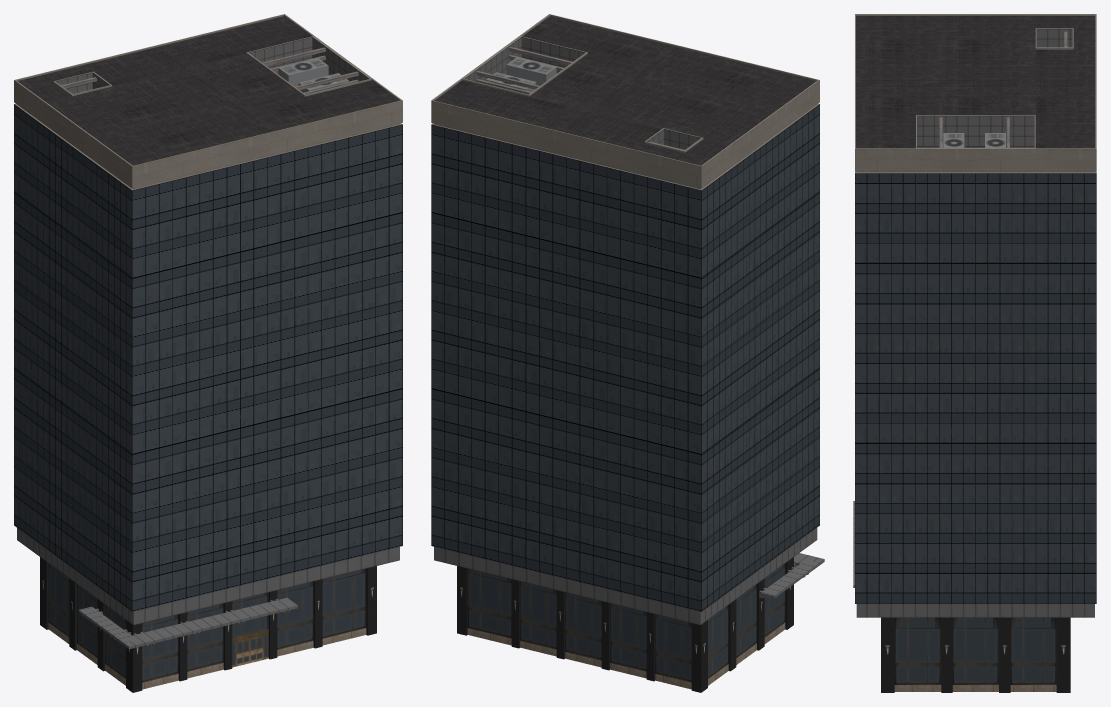
File: 386wabasha.obj
The picture shows the model from 3 angles, left to right: view 1: azimuth 30°, elevation 25°; view 2: azimuth 150°, elevation 25°; view 3: azimuth 270°, elevation 25°; orthographic projection. The views are drawn at different scales.
Visible parts, largest first — view 1: Cube; view 2: Cube; view 3: Cube.
Part boxes in pixels (bbox=[...]): Cube: bbox=[14, 14, 402, 692]; Cube: bbox=[431, 14, 824, 692]; Cube: bbox=[853, 14, 1096, 692].
Size of the model in its own units: 4000 by 7500 by 3000.
